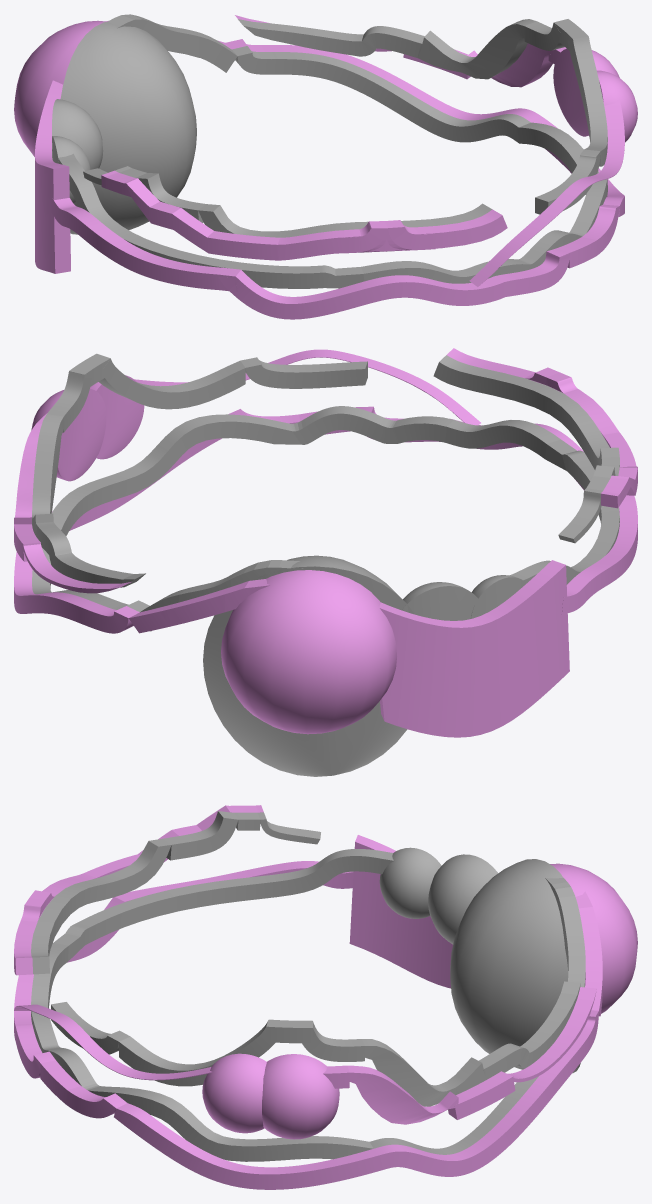
3 renders of one model, top to bottom at view 1: azimuth 30°, elevation 25°; view 2: azimuth 150°, elevation 25°; view 3: azimuth 270°, elevation 25°, orthographic. The views are drawn at different scales.
Visible parts, largest first — view 1: pasted__pPlane37; view 2: pasted__pPlane37; view 3: pasted__pPlane37.
Boxes of the visible parts, x1,y1,x2,y2 form: pasted__pPlane37: (14, 14, 637, 319); pasted__pPlane37: (14, 348, 637, 776); pasted__pPlane37: (14, 805, 637, 1189).
Size of the model in its own units: 36.18 by 13.54 by 36.64.
